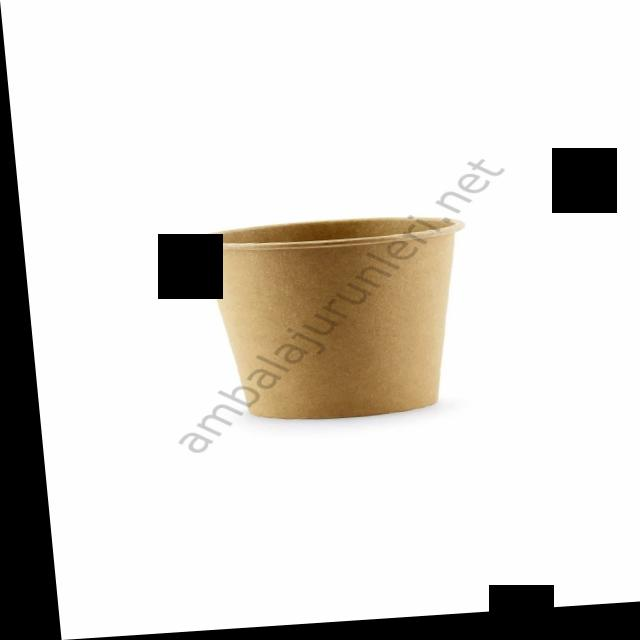karton-bardak: (173, 209, 517, 449)
